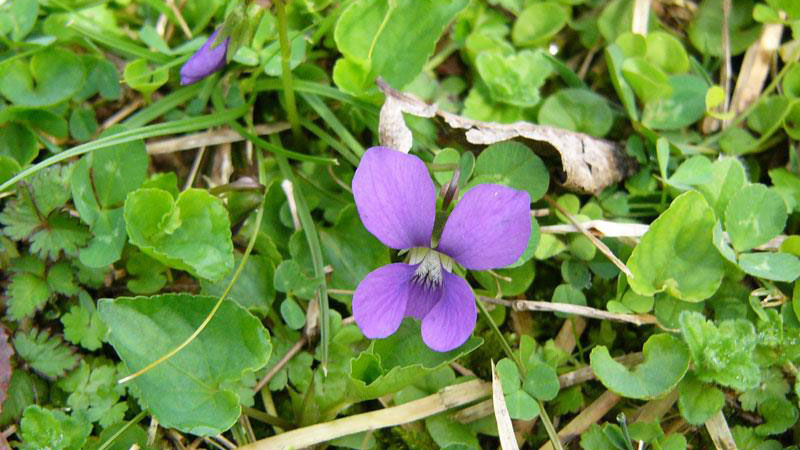violet: (334, 157, 546, 339)
